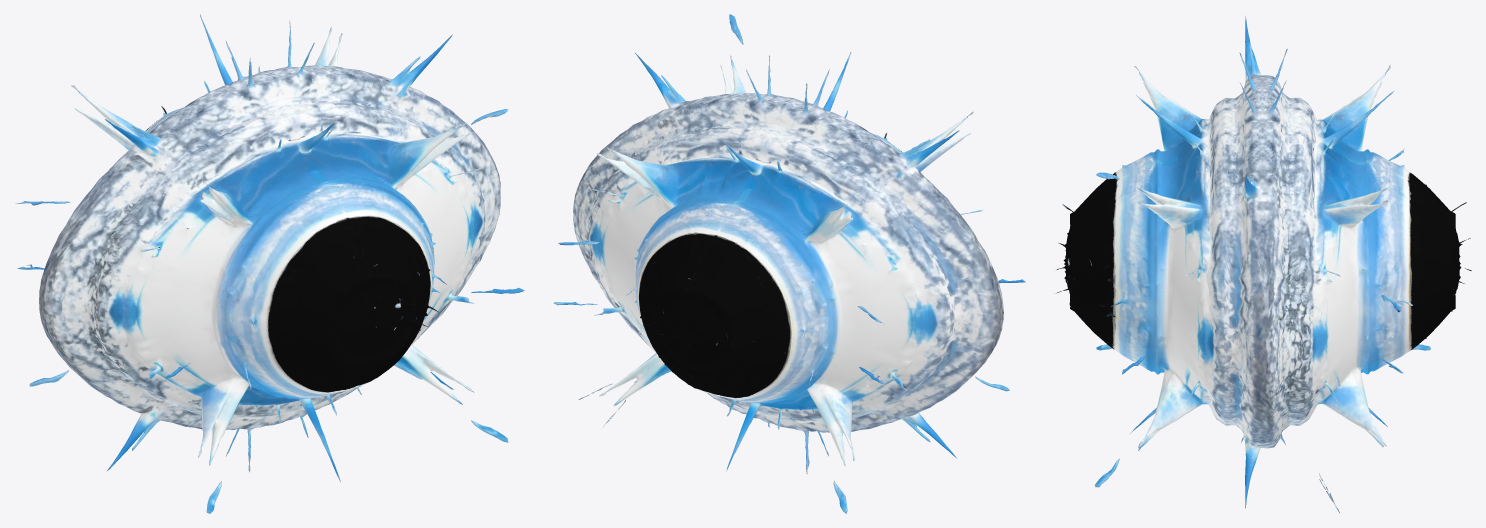
Rendered from quasar.glb.
The picture shows the model from 3 angles, left to right: view 1: azimuth 30°, elevation 25°; view 2: azimuth 150°, elevation 25°; view 3: azimuth 270°, elevation 25°; orthographic projection. The views are drawn at different scales.
Bounding box in the file's own units: 1.78 × 1.57 × 1.5.
Materials: 1 (1 with a texture image).
